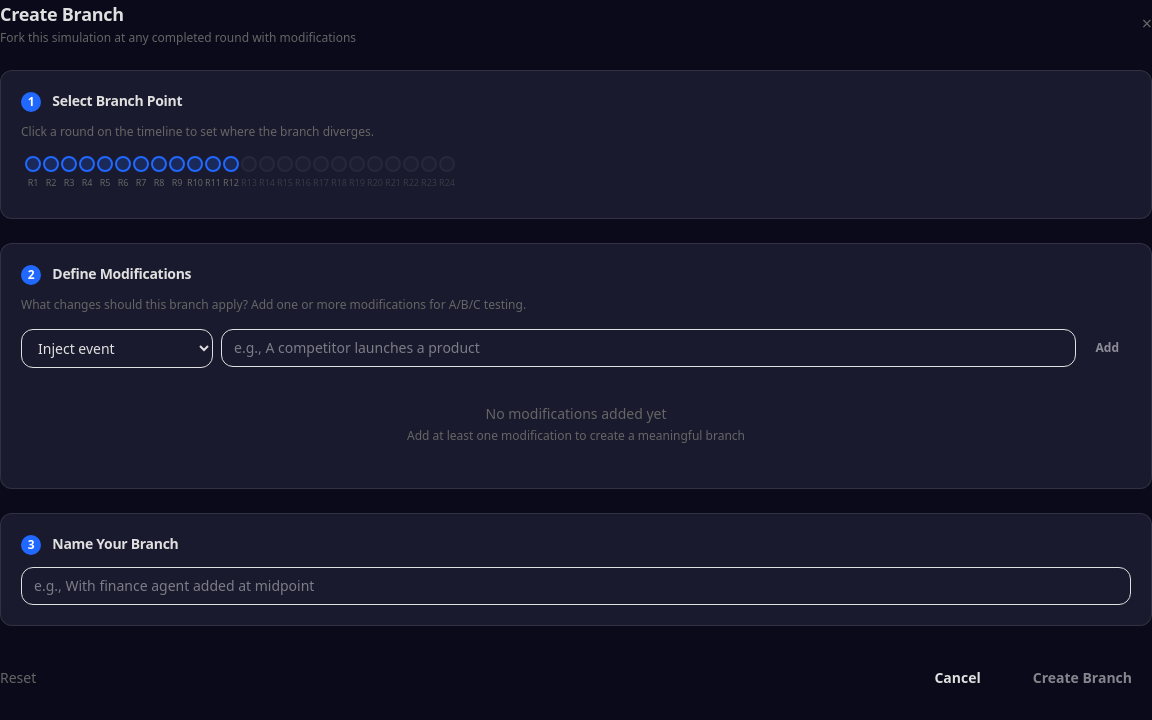
BranchCreator › selecting a round shows "Round N selected" badge
The width and height of the screenshot is (1152, 720).
Click the element with class "cursor-pointer" showing "R1" at (33, 173), box [25,156,41,190]
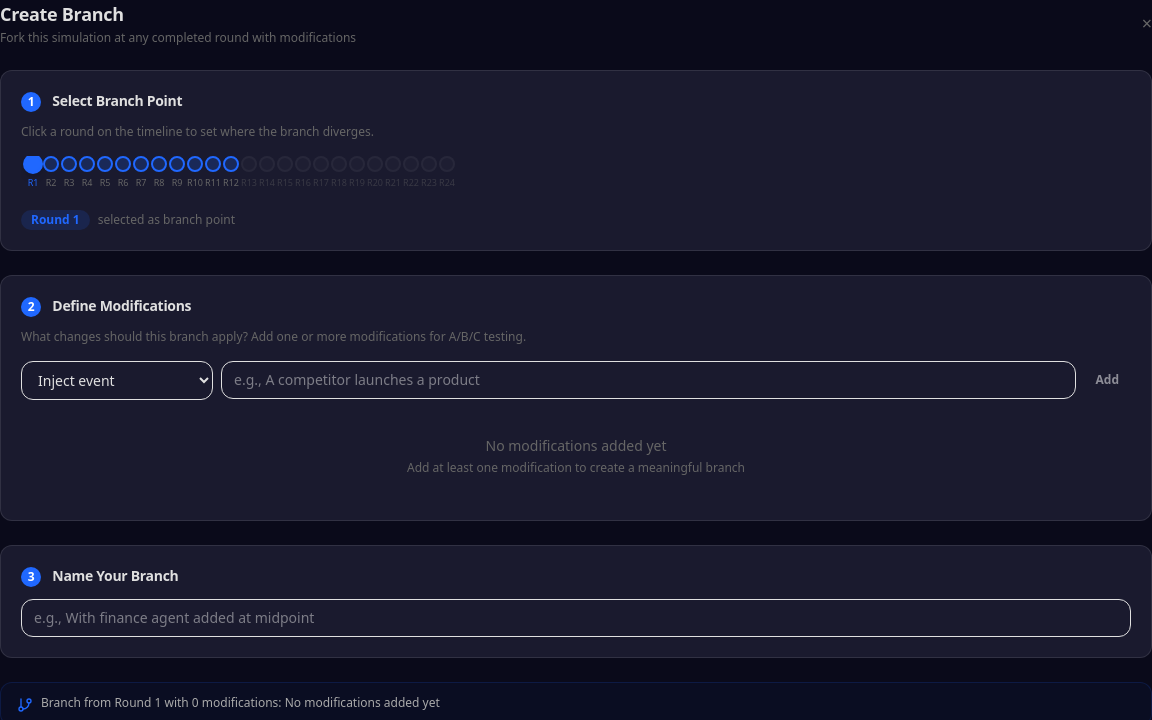
Expected: the text "Round 1" is shown, [21,210,90,230]
Expected: the text "selected as branch point" is shown, [98,212,235,228]
